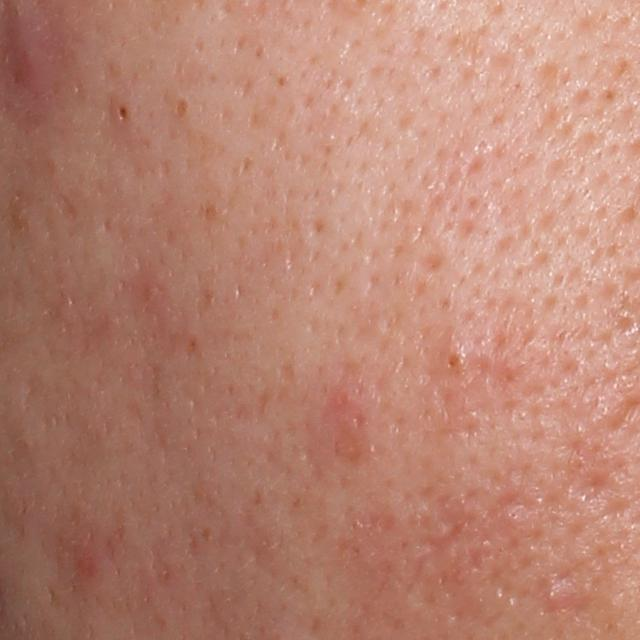atrophic_scar: (411, 496, 476, 584), (568, 470, 613, 499), (49, 191, 78, 229)
comedo: (441, 344, 466, 384), (173, 93, 191, 124), (113, 102, 134, 127)
papule: (326, 375, 372, 444), (4, 35, 52, 95), (539, 577, 572, 609)
